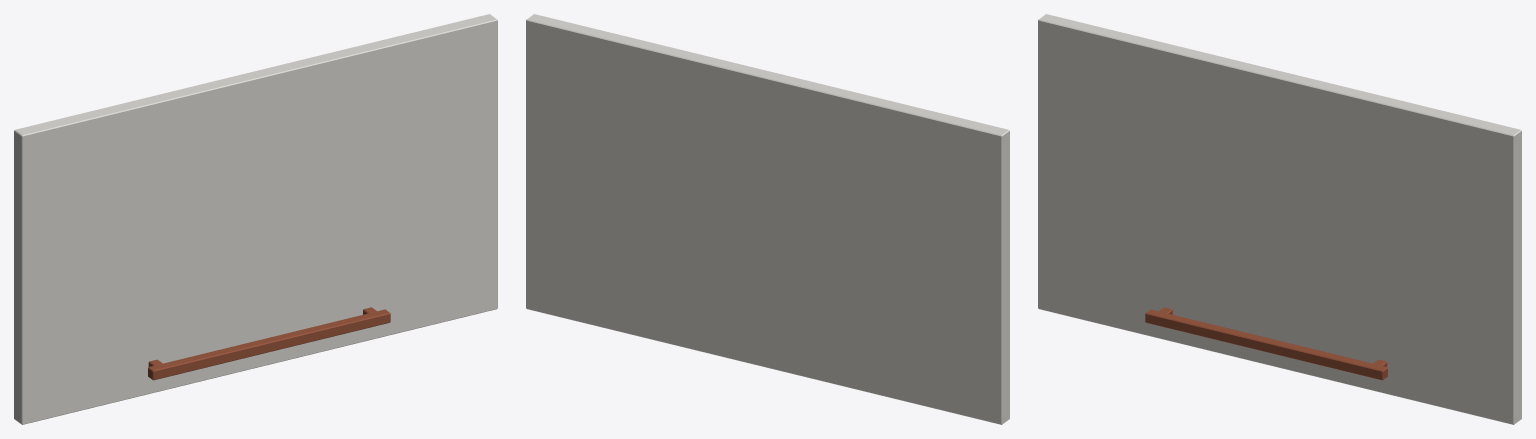
The model's file is kitchen_run_cabinets_compact_w2_flap.glb.
The picture shows the model from 3 angles, left to right: view 1: azimuth 30°, elevation 25°; view 2: azimuth 150°, elevation 25°; view 3: azimuth 330°, elevation 25°; orthographic projection.
Visible parts, largest first — view 1: kitchen_run_cabinets_compact_w2_flap; view 2: kitchen_run_cabinets_compact_w2_flap; view 3: kitchen_run_cabinets_compact_w2_flap.
Boxes of the visible parts, left/top/right/bottom form: kitchen_run_cabinets_compact_w2_flap: left=14, top=14, right=497, bottom=424; kitchen_run_cabinets_compact_w2_flap: left=526, top=14, right=1009, bottom=424; kitchen_run_cabinets_compact_w2_flap: left=1038, top=14, right=1521, bottom=424.
Bounding box in the file's own units: 0.597 × 0.347 × 0.044.
